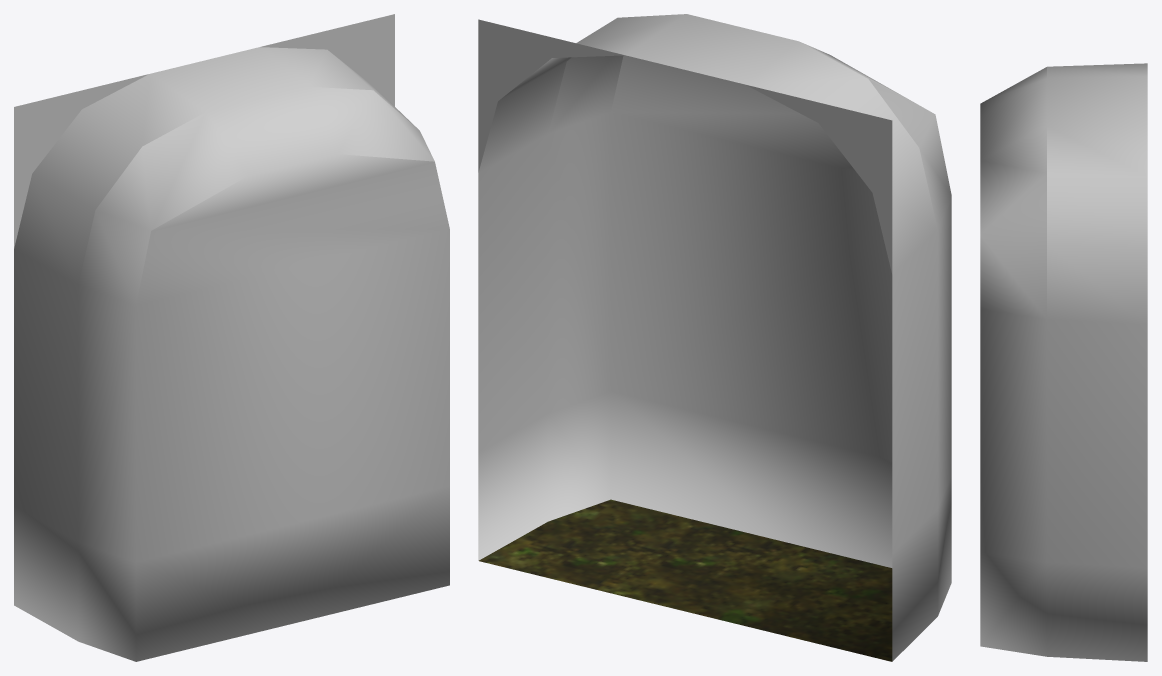
File: SM_WALL_SE_02.fbx
3 renders of one model, left to right at view 1: azimuth 30°, elevation 25°; view 2: azimuth 150°, elevation 25°; view 3: azimuth 270°, elevation 25°, orthographic. The views are drawn at different scales.
Visible parts, largest first — view 1: SM_WALL_SE_02; view 2: SM_WALL_SE_02; view 3: SM_WALL_SE_02.
Part boxes in pixels (x1,y1,x2,y2): SM_WALL_SE_02: (14,14,449,661); SM_WALL_SE_02: (478,14,951,661); SM_WALL_SE_02: (980,63,1147,661).
Bounding box in the file's own units: 4 × 5 × 1.61.
